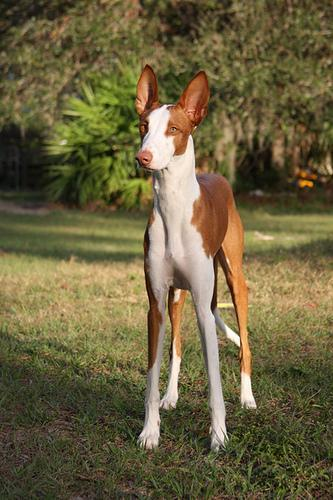Ibizan_hound: (132, 62, 256, 452)
